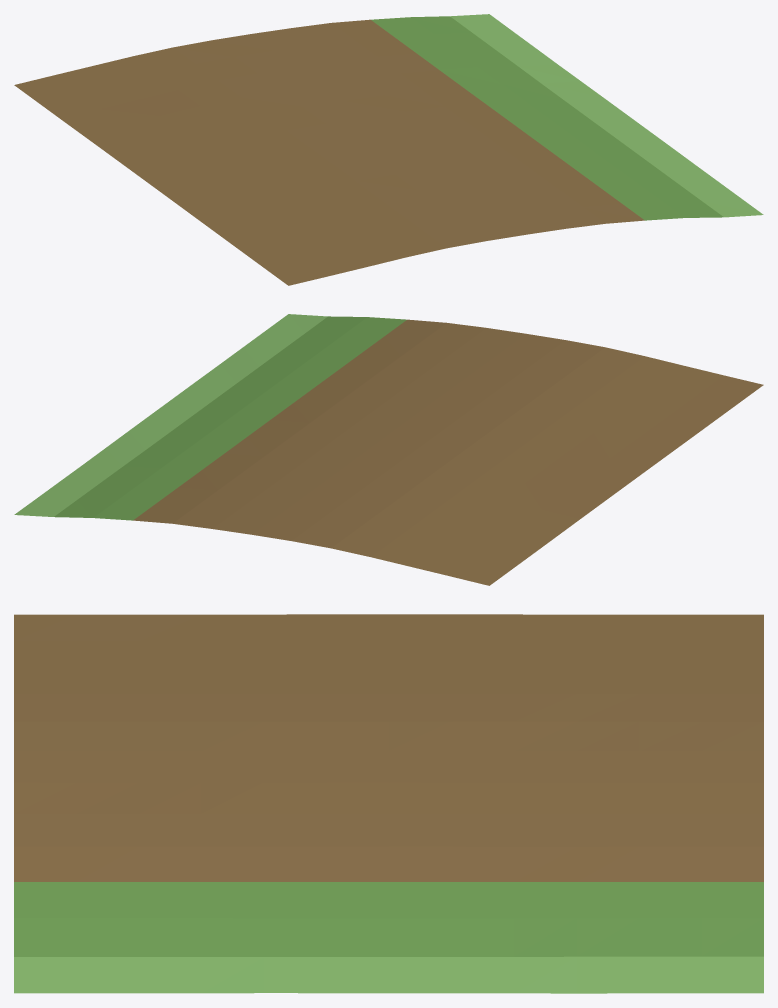
The model's file is chunk_-1_1.obj.
3 views of the same model, one above another, from view 1: azimuth 30°, elevation 25°; view 2: azimuth 150°, elevation 25°; view 3: azimuth 270°, elevation 25° (orthographic). The views are drawn at different scales.
Visible parts, largest first — view 1: dirt, grass_a, grass_b; view 2: dirt, grass_a, grass_b; view 3: dirt, grass_a, grass_b.
Boxes of the visible parts, x1,y1,x2,y2 form: dirt: (14, 19, 644, 285); grass_a: (371, 16, 723, 220); grass_b: (450, 14, 763, 217); dirt: (133, 319, 763, 585); grass_a: (54, 316, 406, 520); grass_b: (14, 314, 327, 516); dirt: (14, 614, 763, 881); grass_a: (14, 882, 763, 956); grass_b: (14, 956, 763, 993).
Bounding box in the file's own units: 16 × 1.46 × 16.
